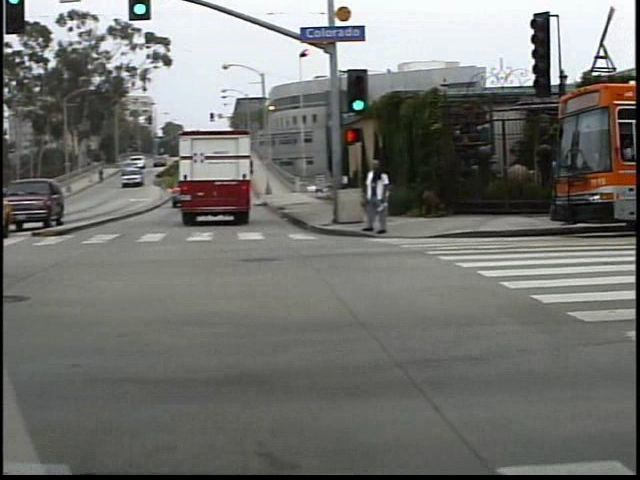person: (367, 156, 397, 238)
